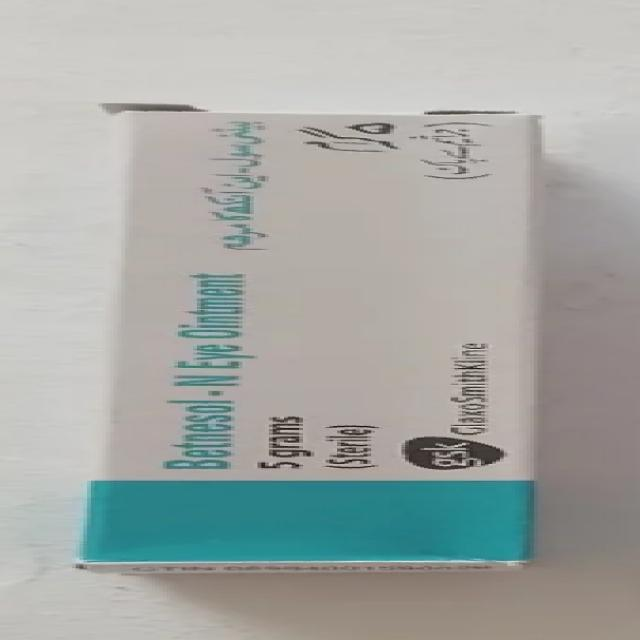drug-name: (160, 264, 256, 476)
